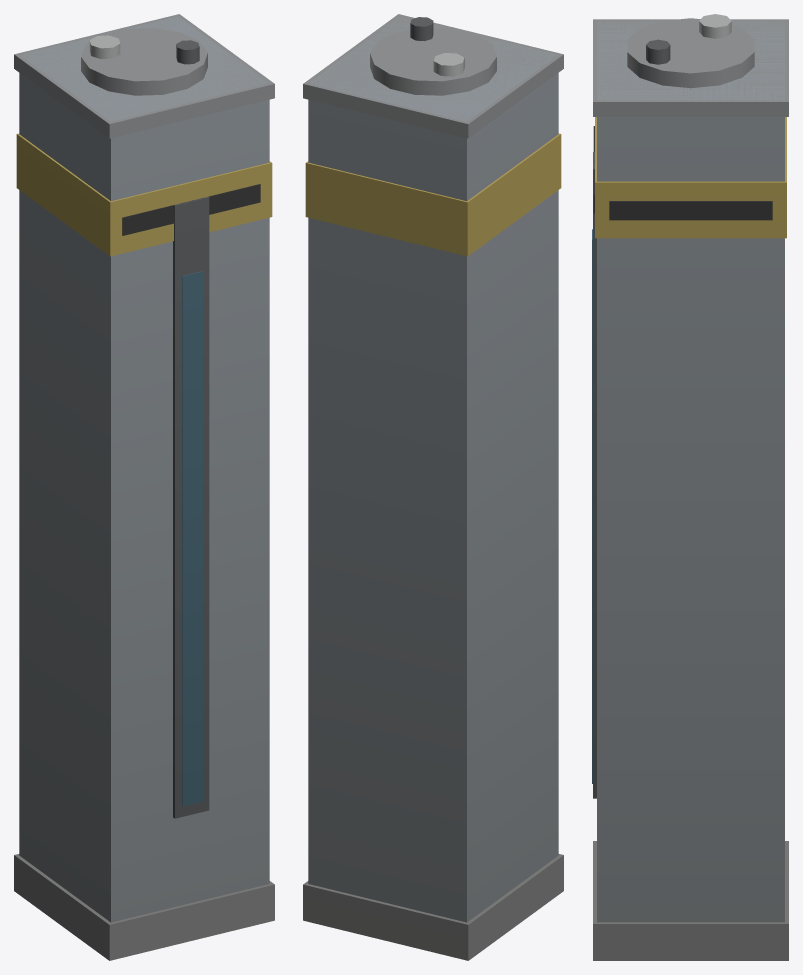
File: modHeavy_steel.glb
3 renders of one model, left to right at view 1: azimuth 30°, elevation 25°; view 2: azimuth 150°, elevation 25°; view 3: azimuth 270°, elevation 25°, orthographic. The views are drawn at different scales.
Parts seen in each view (by area): view 1: modHeavy_steel; view 2: modHeavy_steel; view 3: modHeavy_steel.
Part boxes in pixels (x1=…): modHeavy_steel: x1=14, y1=14, x2=274, y2=960; modHeavy_steel: x1=303, y1=14, x2=563, y2=960; modHeavy_steel: x1=592, y1=14, x2=788, y2=960.
Size of the model in its own units: 0.48 by 2.4 by 0.482.
